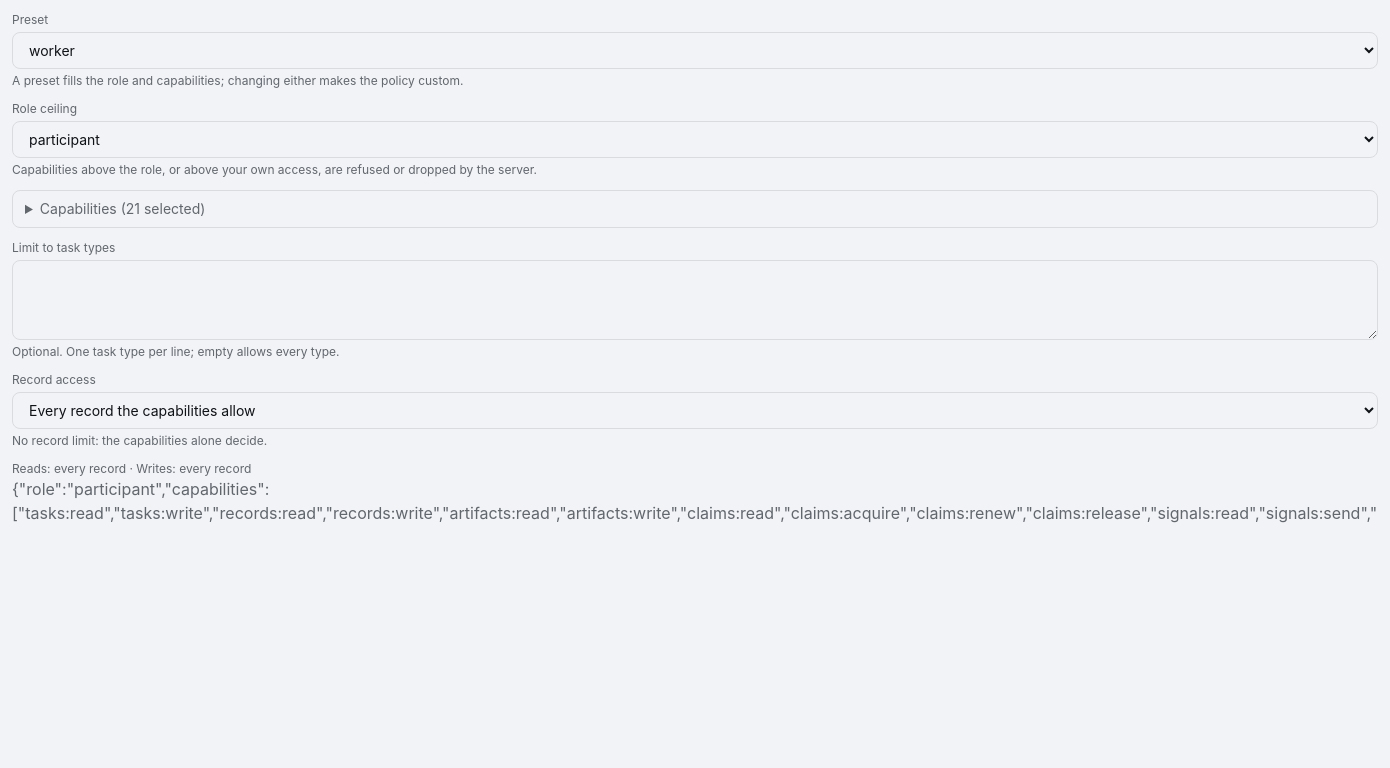
PolicyFields › authors a read-only answer/a1 and a write-only question/q1
Select "Limit reads and writes separately" in the dropdown labelled "Record access" at (695, 410), box [12,392,1378,429]
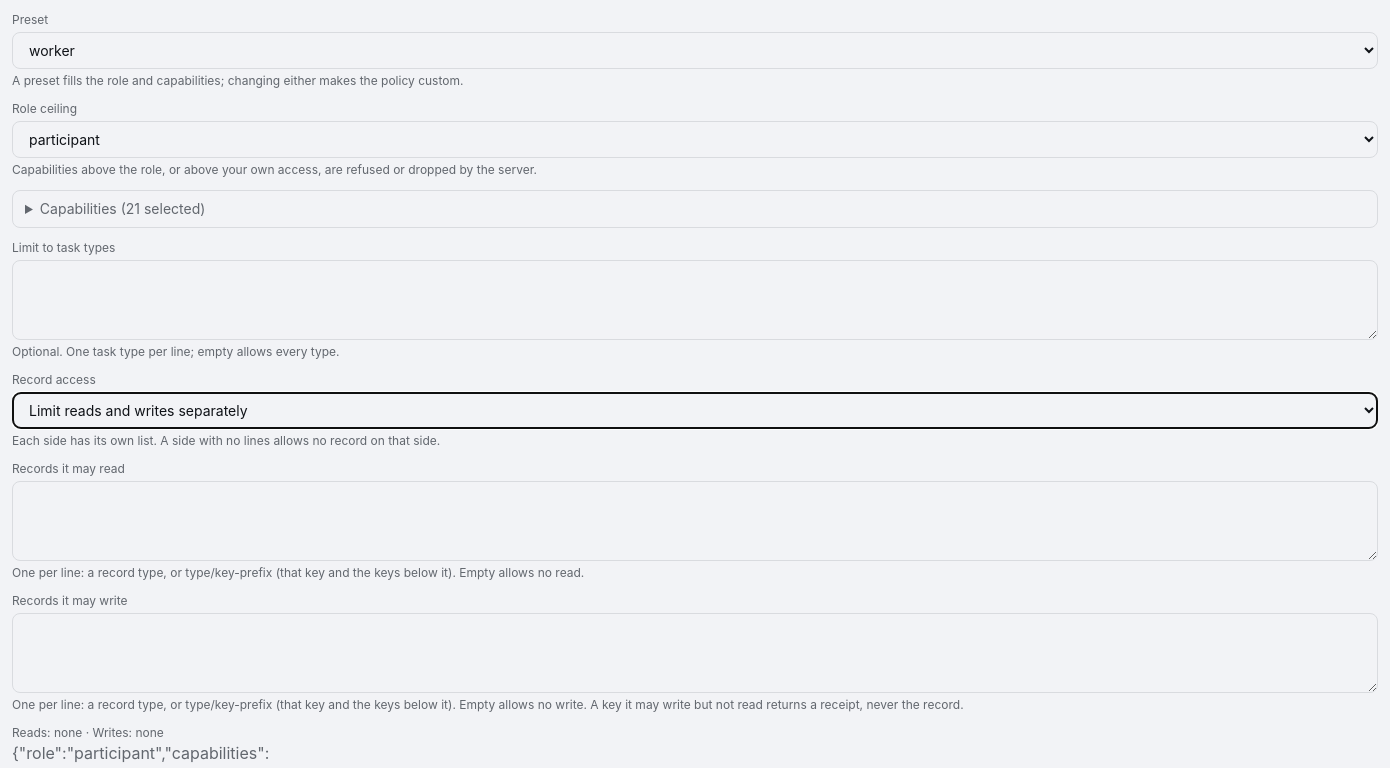
Expected: the text named "Effective record access" reads "Reads: none · Writes: none", [12,725,164,740]
Type "answer/a1" into the text box labelled "Records it may read" at (695, 521), box [12,481,1378,561]
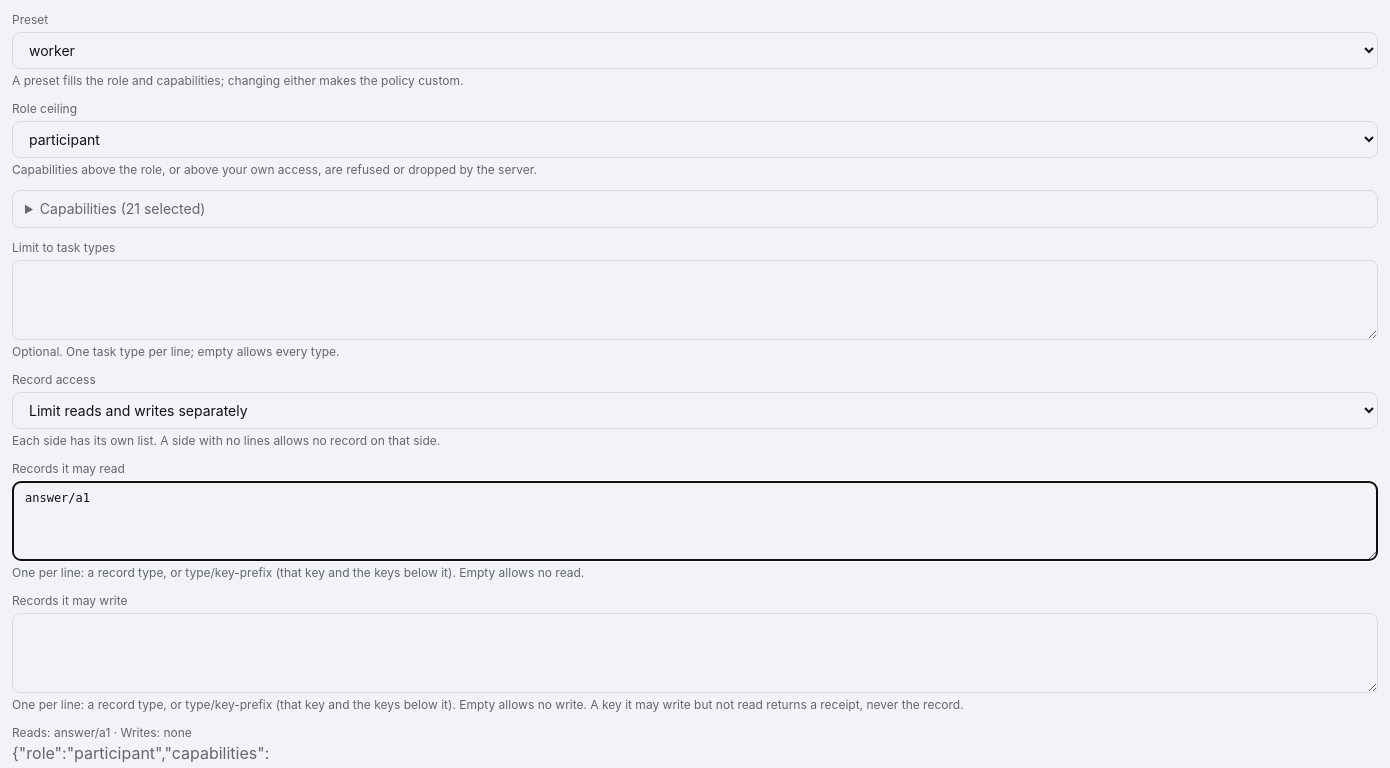
Type "question/q1" into the text box labelled "Records it may write" at (695, 653), box [12,613,1378,693]
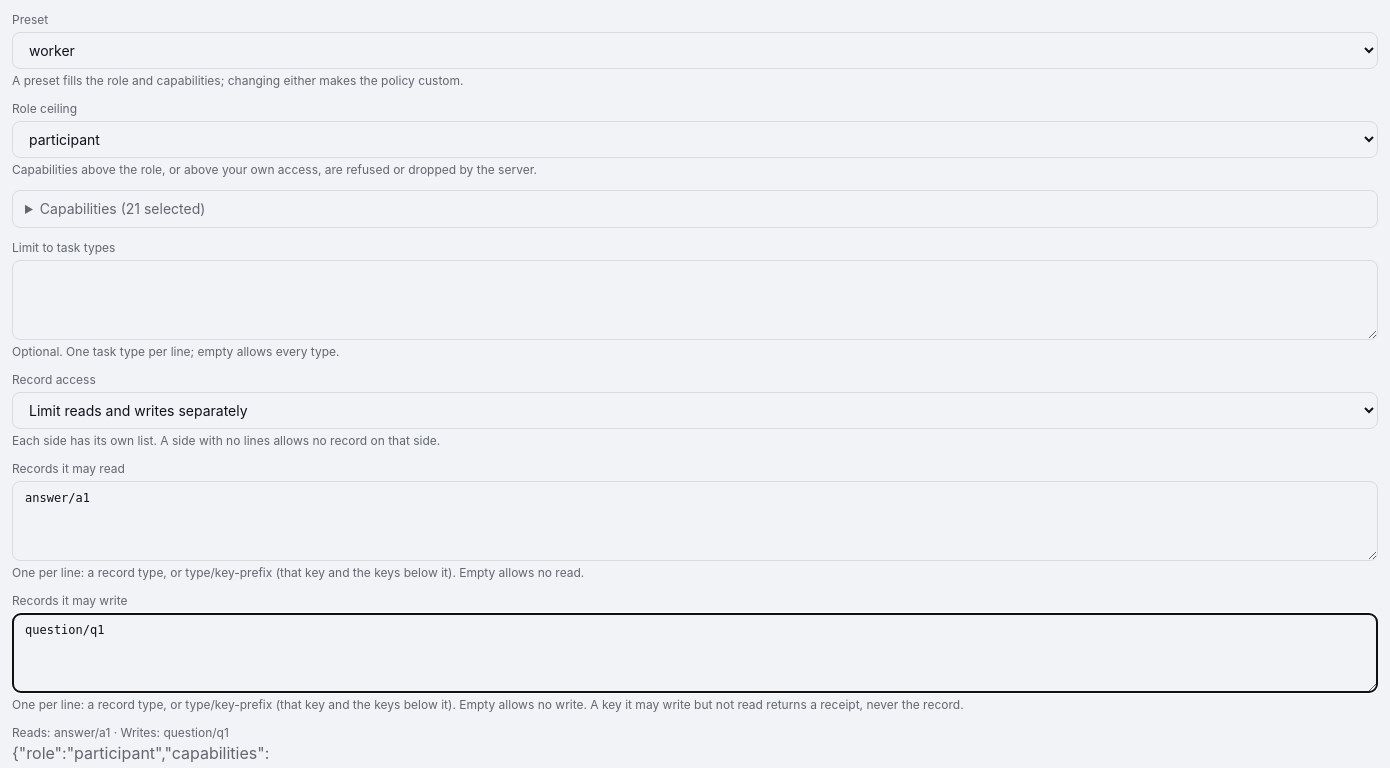
Expected: the text named "Effective record access" reads "Reads: answer/a1 · Writes: question/q1", [12,725,229,740]
